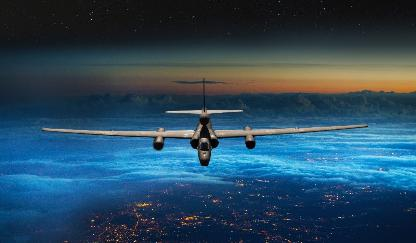Tu160: (40, 77, 367, 166)
